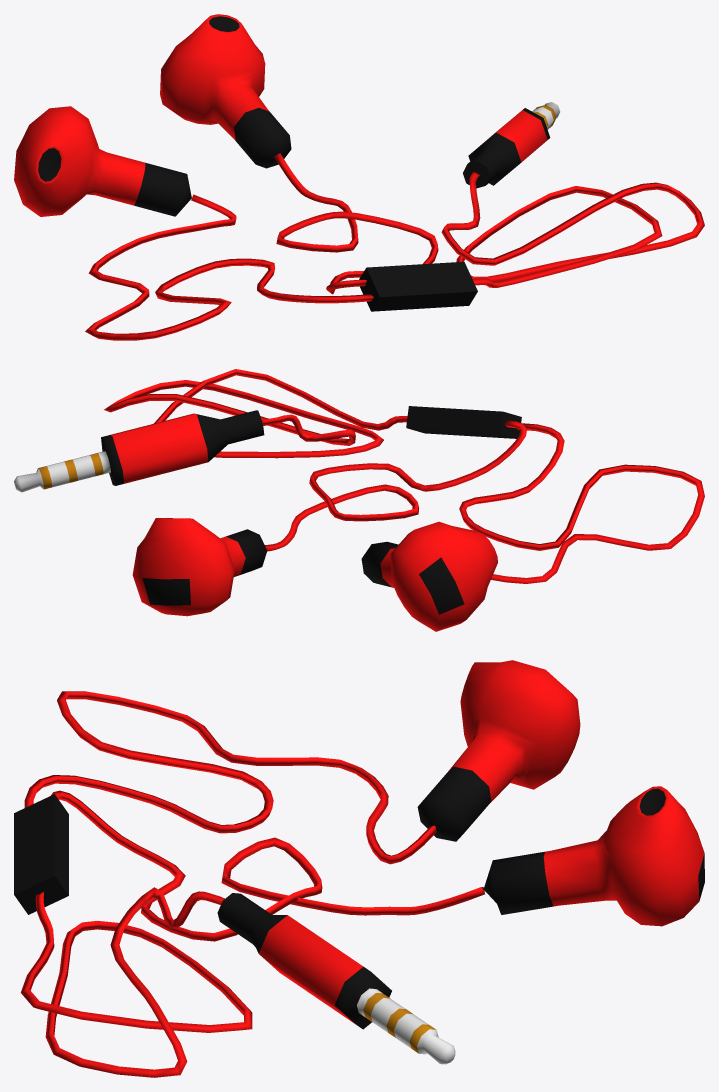
File: earphone_1.FBX
The picture shows the model from 3 angles, top to bottom: view 1: azimuth 30°, elevation 25°; view 2: azimuth 150°, elevation 25°; view 3: azimuth 270°, elevation 25°; orthographic projection. The views are drawn at different scales.
Visible parts, largest first — view 1: earphone_1; view 2: earphone_1; view 3: earphone_1.
Boxes of the visible parts, x1,y1,x2,y2 form: earphone_1: [14, 14, 704, 340]; earphone_1: [14, 369, 704, 631]; earphone_1: [14, 660, 704, 1077].
Size of the model in its own units: 1605 by 267 by 1301.
